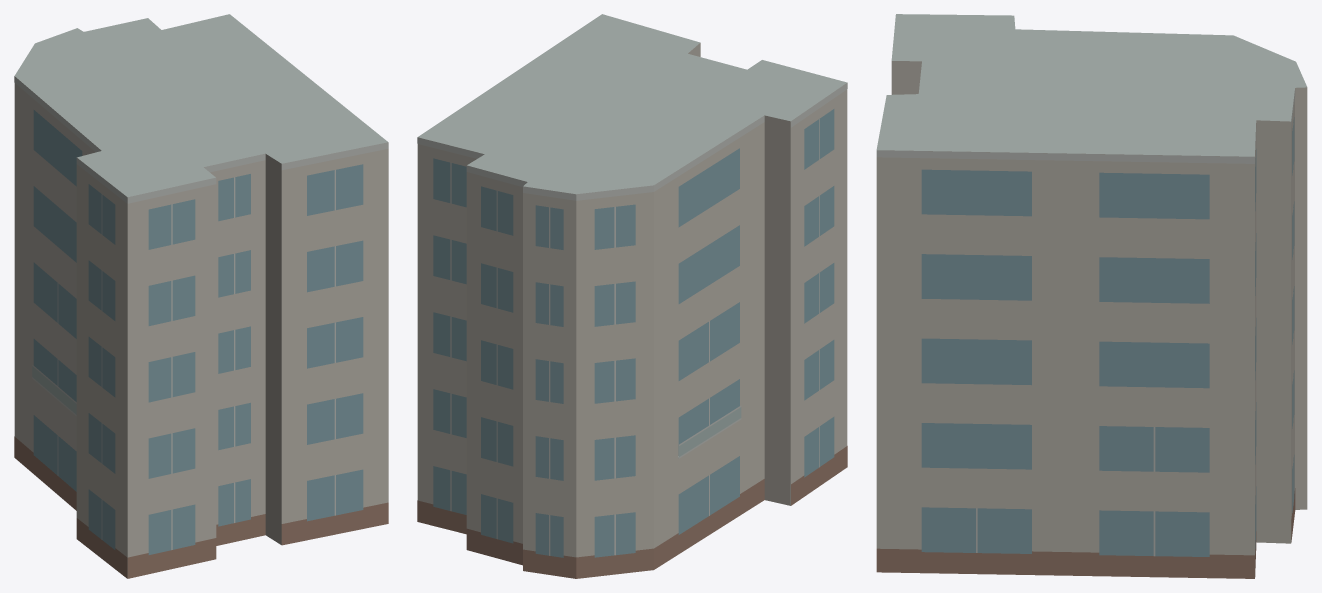
File: survey-upis-32471863.glb
The picture shows the model from 3 angles, left to right: view 1: azimuth 30°, elevation 25°; view 2: azimuth 150°, elevation 25°; view 3: azimuth 270°, elevation 25°; orthographic projection. The views are drawn at different scales.
Parts seen in each view (by area): view 1: survey-upis-32471863.tmp; view 2: survey-upis-32471863.tmp; view 3: survey-upis-32471863.tmp.
Part boxes in pixels (bbox=[...]): survey-upis-32471863.tmp: bbox=[14, 14, 388, 578]; survey-upis-32471863.tmp: bbox=[417, 14, 847, 578]; survey-upis-32471863.tmp: bbox=[876, 14, 1307, 578].
Size of the model in its own units: 10.31 by 14.2 by 13.15.
